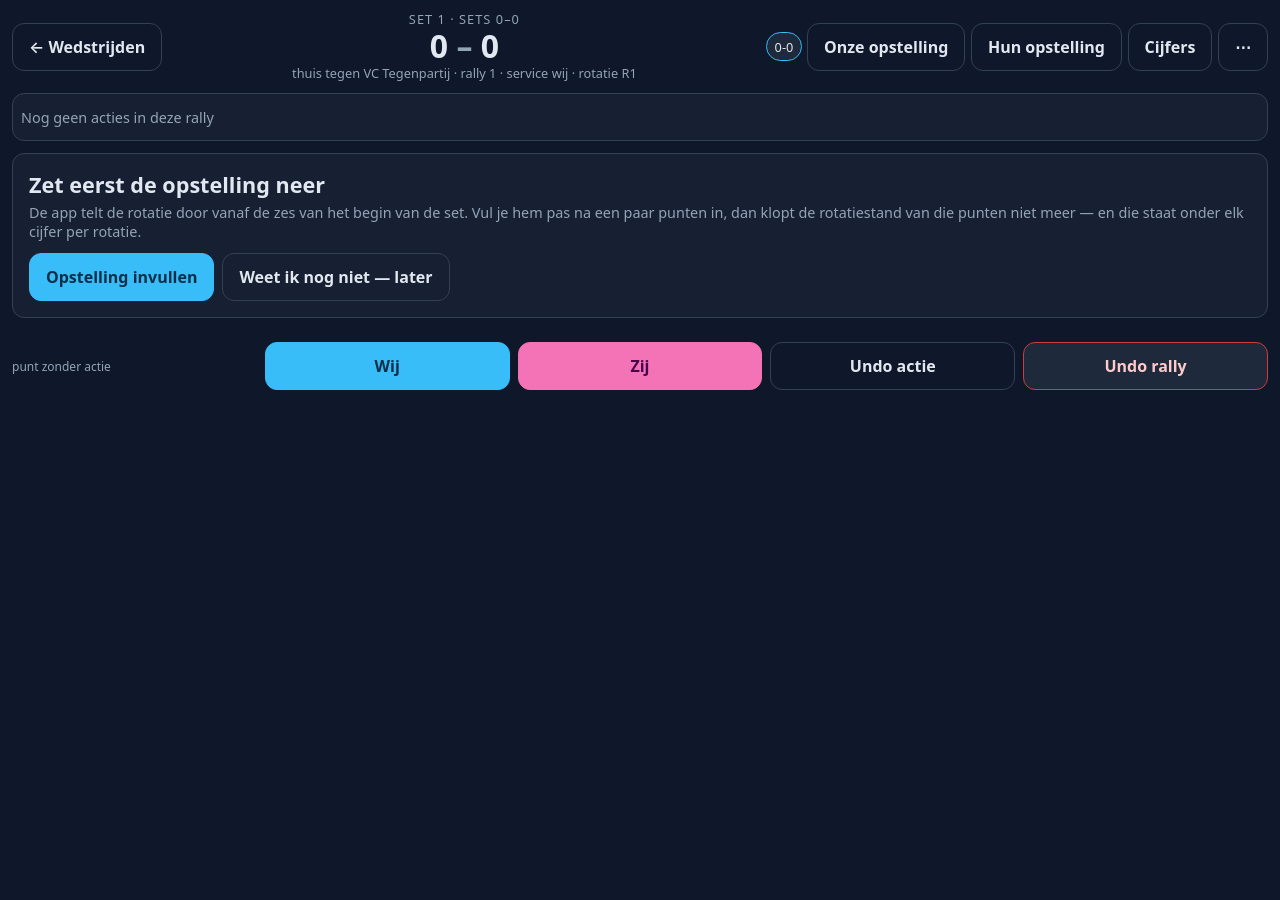
ScoringScreen: opstelling vóór het eerste punt › vraagt om de opstelling zolang de set nog leeg is, en laat hem overslaan
expect the heading "Zet eerst de opstelling neer" is shown: met, box [29, 170, 325, 199]
expect the text "Wie speelde de bal?" is not shown: met
Click the button "Weet ik nog niet — later": (336, 277) [222, 253, 450, 301]
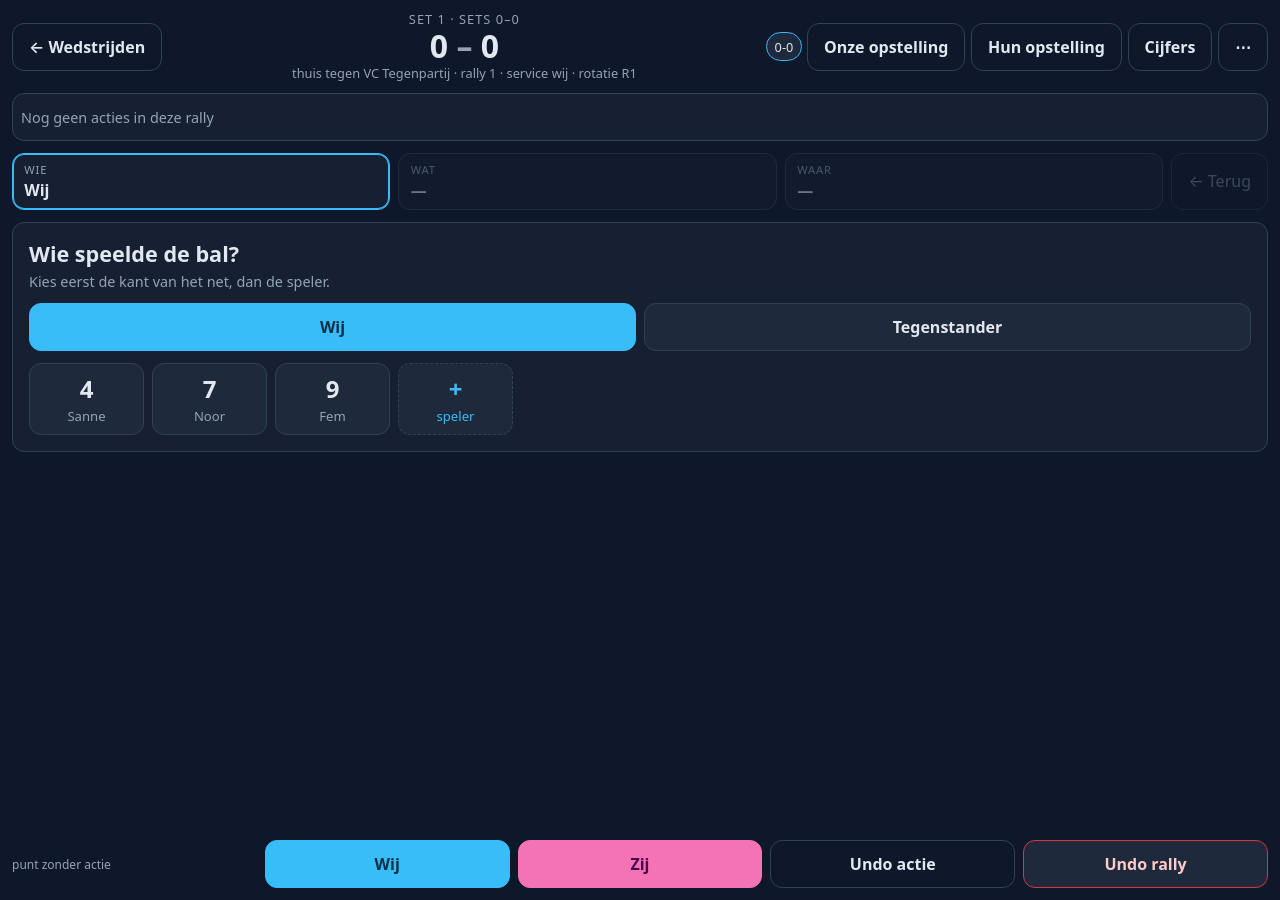
expect the heading "Wie speelde de bal?" is shown: met, box [29, 239, 239, 268]
